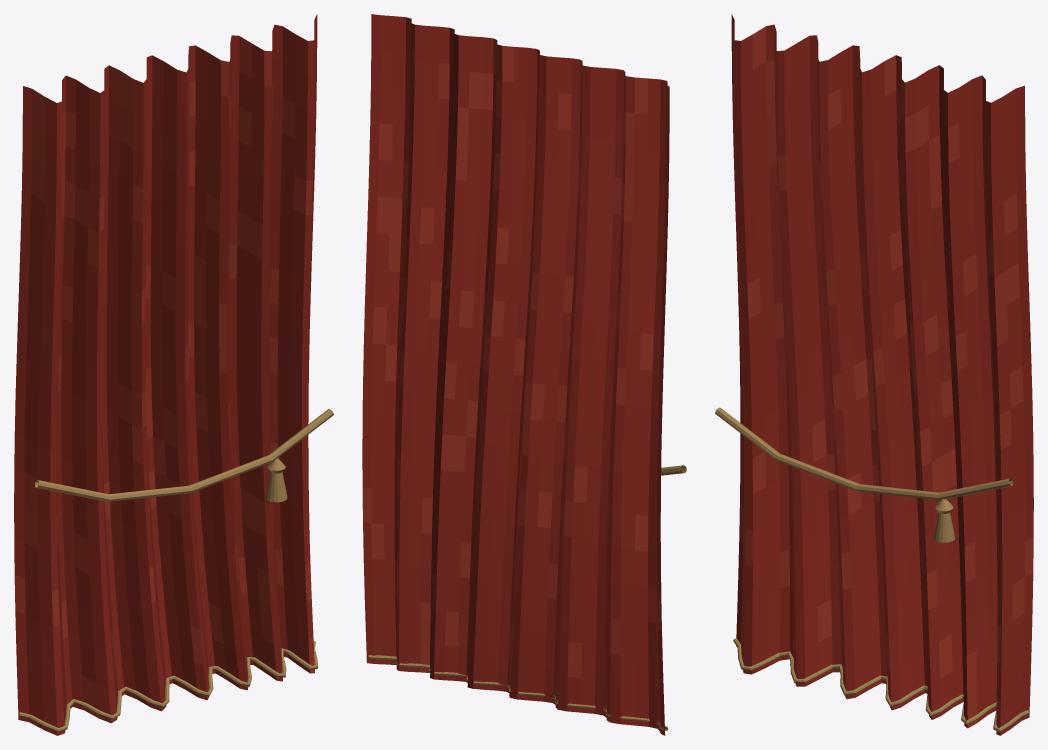
Rendered from curtain.glb.
3 views of the same model, side by side, from view 1: azimuth 30°, elevation 25°; view 2: azimuth 150°, elevation 25°; view 3: azimuth 330°, elevation 25° (orthographic).
Parts seen in each view (by area): view 1: Vermilion curtain folds, Tie back cord, Curtain gold hem, Cord tassel; view 2: Vermilion curtain folds, Curtain gold hem; view 3: Vermilion curtain folds, Tie back cord, Curtain gold hem, Cord tassel.
Part boxes in pixels (x1,y1,x2,y2): Vermilion curtain folds: (14,14,317,735); Tie back cord: (35,409,333,501); Curtain gold hem: (19,641,318,732); Cord tassel: (265,458,287,502); Vermilion curtain folds: (362,14,669,735); Curtain gold hem: (368,655,668,730); Vermilion curtain folds: (731,14,1033,735); Tie back cord: (715,407,1012,500); Curtain gold hem: (733,638,1029,732); Cord tassel: (933,499,955,542).
Bounding box in the file's own units: 5.86 × 12.2 × 1.18.
